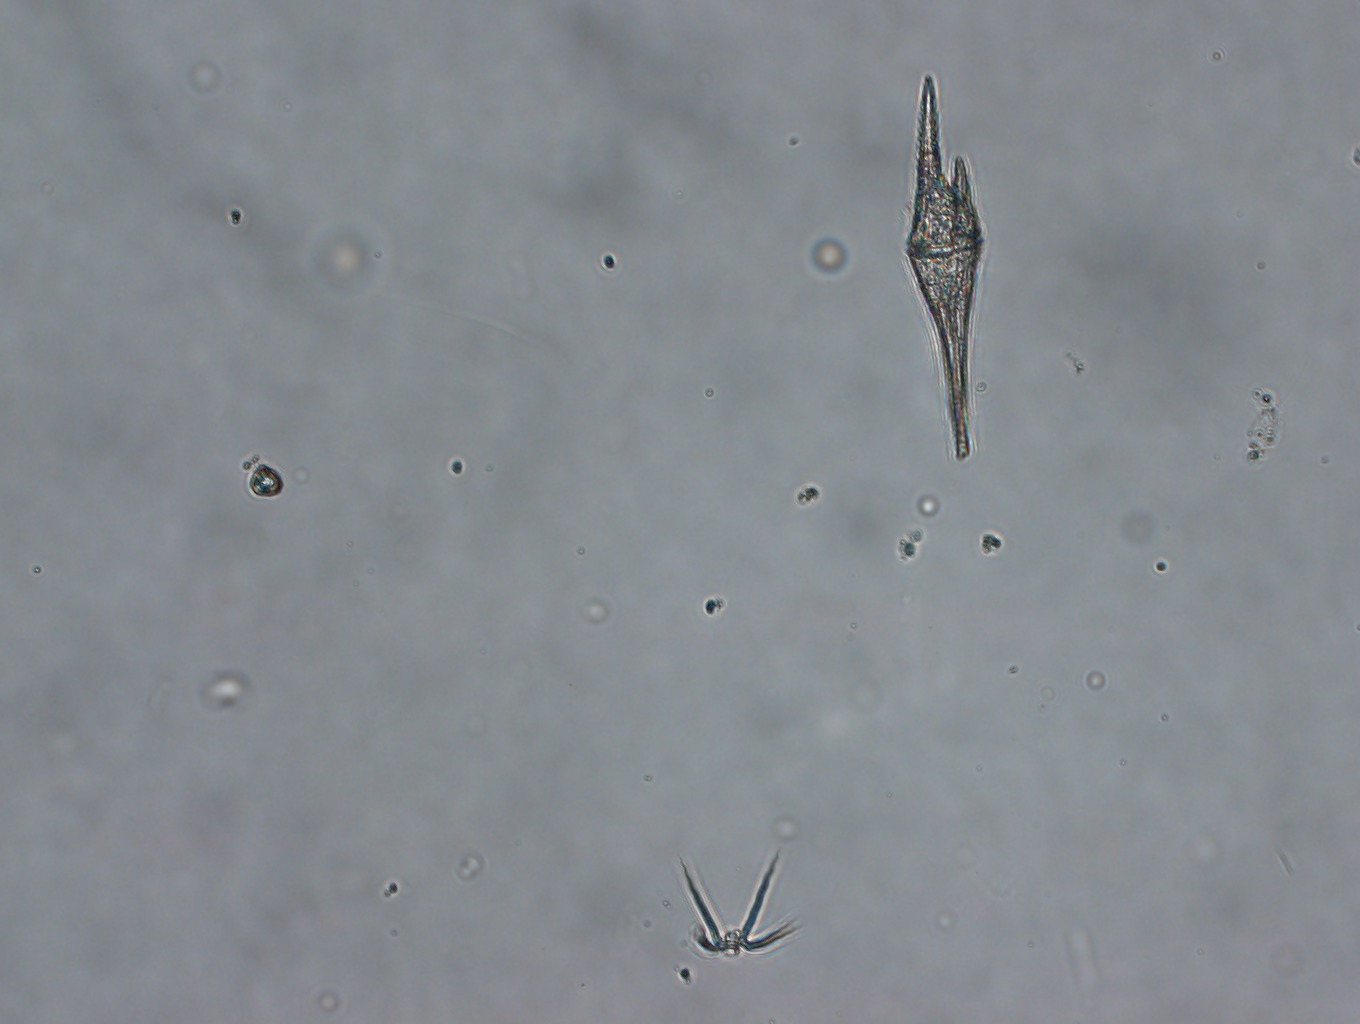ceratium furca: (902, 70, 988, 460)
chaetoceros: (672, 849, 807, 961)
